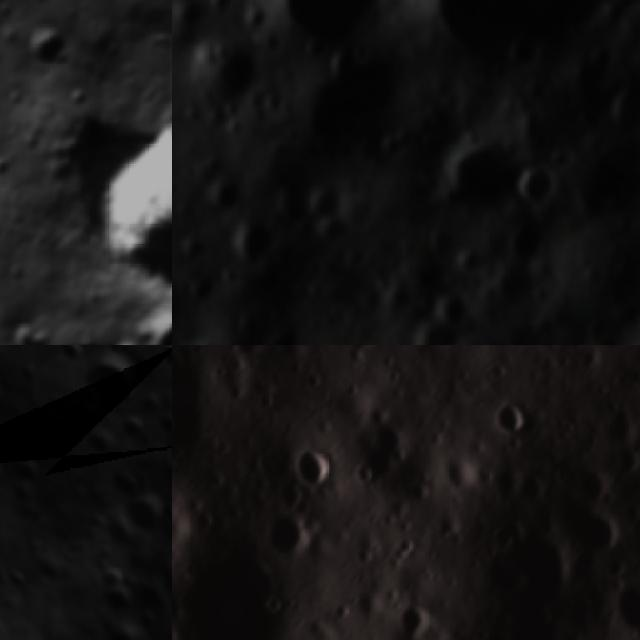crater: (38, 101, 172, 337), (392, 0, 618, 113), (420, 115, 542, 238), (236, 0, 405, 67), (186, 23, 276, 114), (69, 346, 150, 427), (500, 145, 576, 221), (9, 11, 85, 85), (255, 499, 326, 577), (230, 211, 291, 272), (114, 486, 172, 548), (86, 504, 142, 562), (172, 71, 202, 179), (399, 302, 474, 345), (282, 436, 342, 488), (500, 28, 553, 81), (601, 78, 640, 143), (490, 392, 535, 441), (91, 578, 137, 623), (604, 580, 640, 637), (103, 461, 148, 506), (203, 171, 247, 215), (131, 298, 172, 345), (583, 40, 625, 82), (93, 559, 134, 597), (92, 612, 147, 640), (393, 602, 433, 640), (95, 326, 164, 345), (70, 376, 104, 414), (153, 345, 172, 376)
